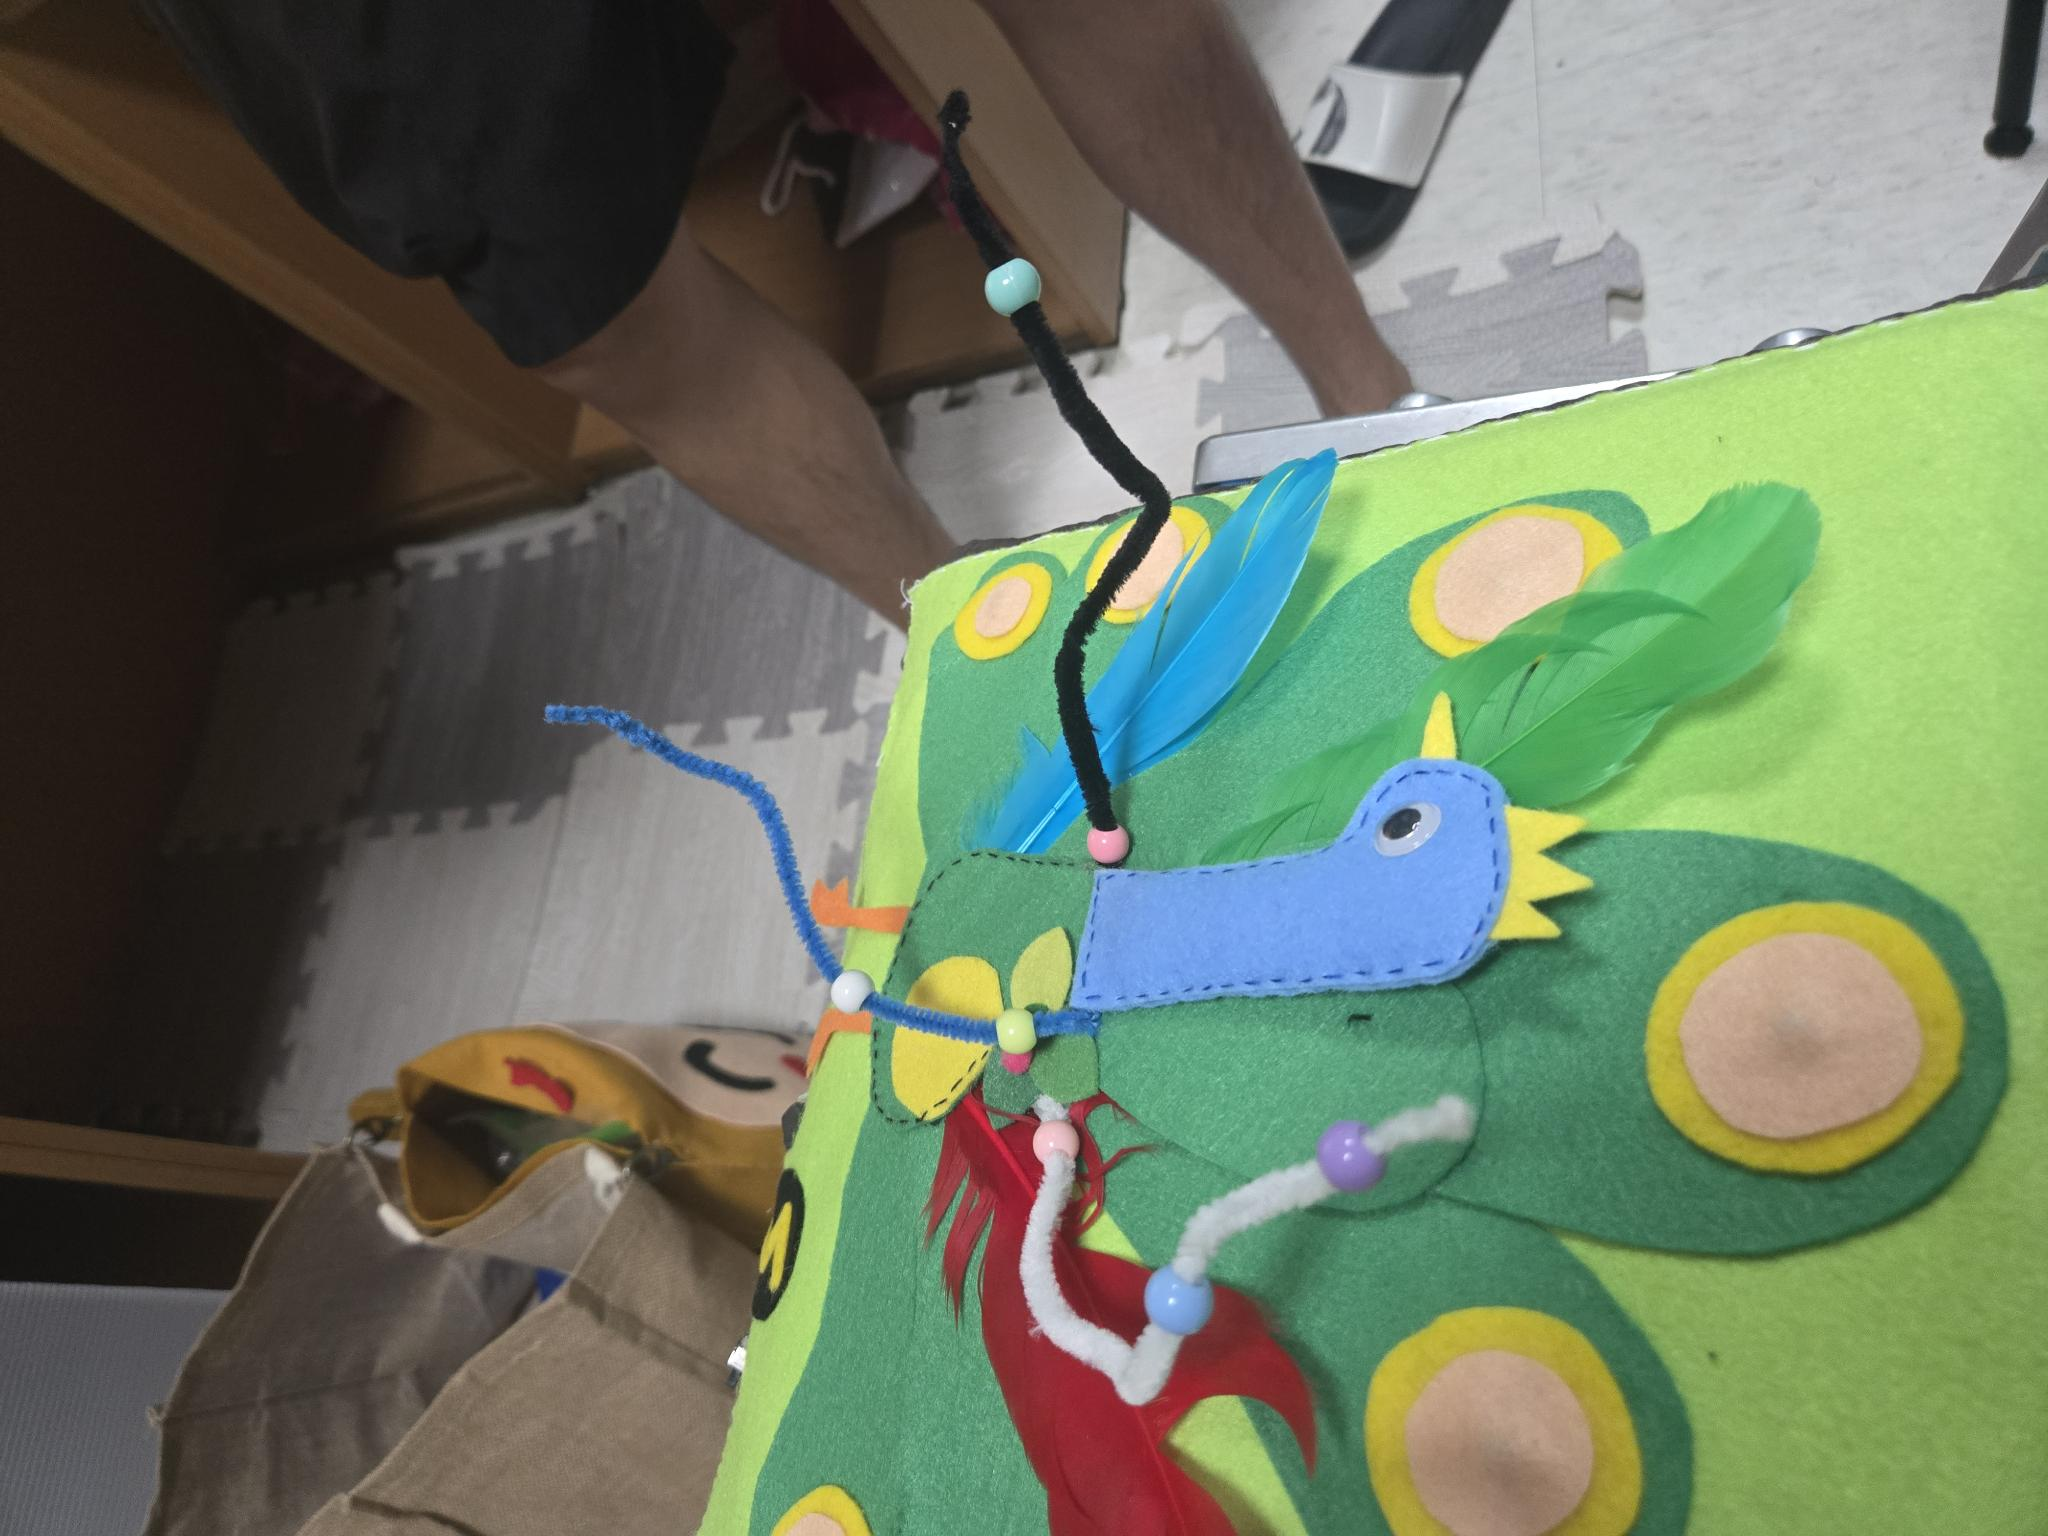bead: (963, 260, 1050, 336), (1148, 1267, 1213, 1338), (1321, 1129, 1385, 1200), (826, 965, 871, 1034), (1080, 816, 1134, 865), (993, 1012, 1032, 1066), (1040, 1120, 1080, 1171)
